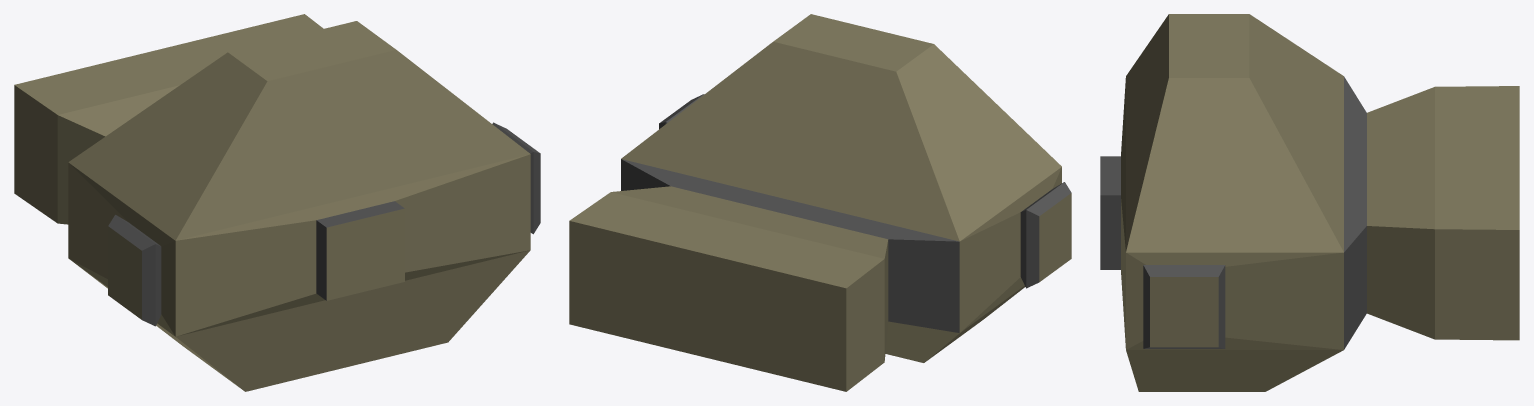
File: body3.obj
The picture shows the model from 3 angles, left to right: view 1: azimuth 30°, elevation 25°; view 2: azimuth 150°, elevation 25°; view 3: azimuth 270°, elevation 25°; orthographic projection. The views are drawn at different scales.
Visible parts, largest first — view 1: MechBody3; view 2: MechBody3; view 3: MechBody3.
Boxes of the visible parts, <box> form: MechBody3: <box>14,14,540,391</box>; MechBody3: <box>569,14,1071,391</box>; MechBody3: <box>1100,14,1519,391</box>.
Size of the model in its own units: 5.01 by 3.49 by 4.49.
Materials: 1 (1 with a texture image).
